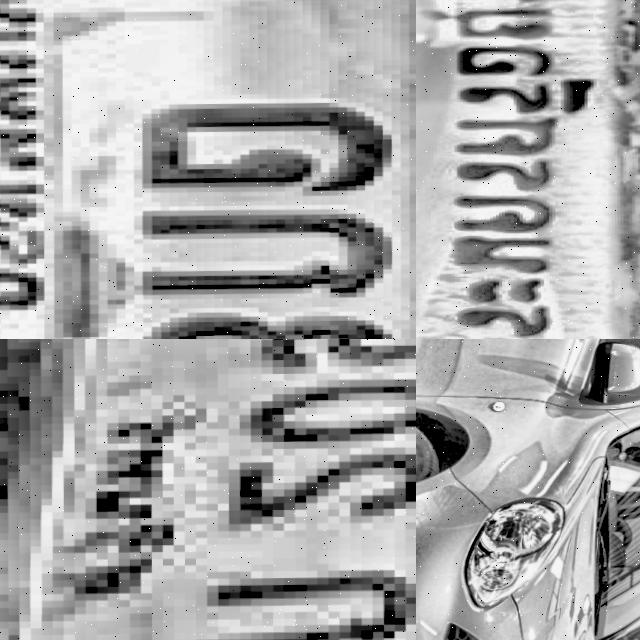license-plate: (0, 0, 416, 339), (0, 339, 416, 640), (416, 0, 640, 339)
